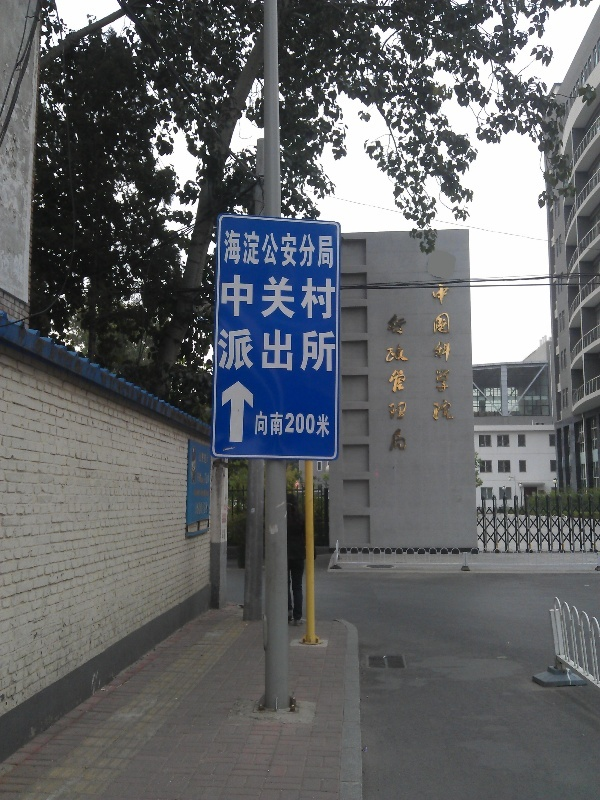text: (433, 282, 448, 424), (385, 314, 400, 453), (401, 314, 412, 453), (449, 282, 455, 424), (225, 328, 240, 374), (241, 328, 256, 374), (257, 328, 272, 374), (273, 328, 288, 374), (289, 328, 304, 374), (305, 328, 320, 374), (321, 328, 336, 374), (225, 275, 240, 319), (241, 275, 256, 319), (257, 275, 272, 319), (273, 275, 288, 319), (289, 275, 304, 319), (305, 275, 320, 319), (321, 275, 336, 319), (225, 231, 240, 269), (241, 231, 256, 269), (257, 231, 272, 269), (273, 231, 288, 269), (289, 231, 304, 269), (305, 231, 320, 269), (321, 231, 336, 269), (257, 411, 272, 439), (273, 411, 288, 439), (289, 411, 304, 439), (305, 411, 320, 439), (321, 411, 332, 439), (430, 282, 432, 424), (218, 328, 224, 374), (196, 502, 208, 515), (197, 472, 208, 484), (195, 490, 208, 497), (222, 275, 224, 319), (200, 453, 208, 464), (254, 411, 256, 439), (223, 231, 224, 269), (337, 231, 338, 269), (209, 453, 210, 464), (209, 490, 210, 497)
